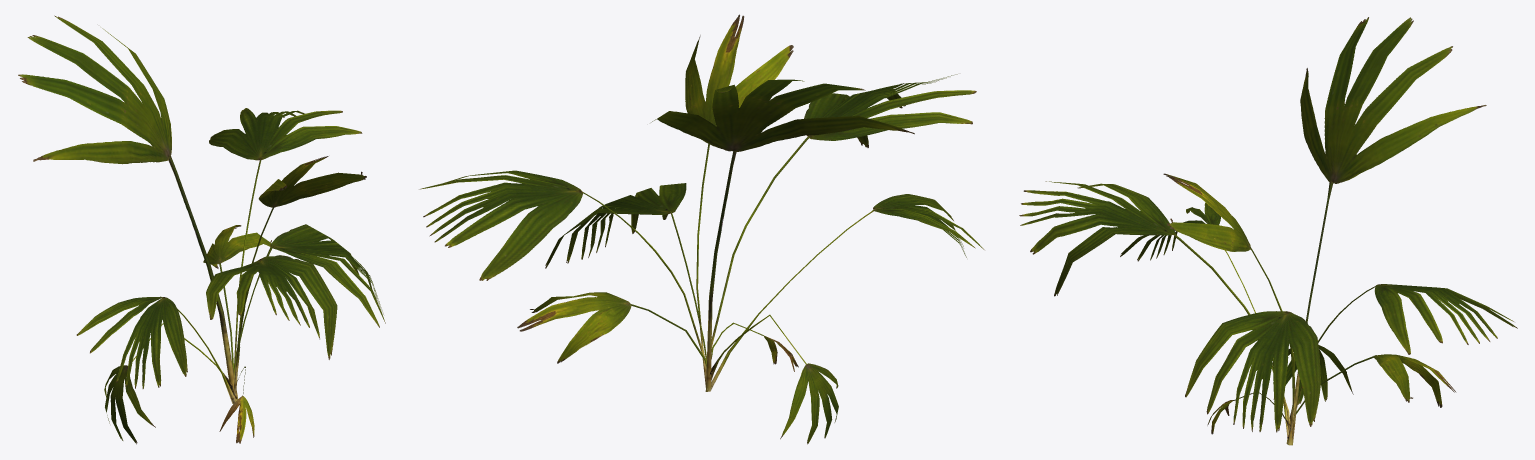
File: fan_palm.glb
The picture shows the model from 3 angles, left to right: view 1: azimuth 30°, elevation 25°; view 2: azimuth 150°, elevation 25°; view 3: azimuth 270°, elevation 25°; orthographic projection. The views are drawn at different scales.
Parts seen in each view (by area): view 1: Megascans fan_palm; view 2: Megascans fan_palm; view 3: Megascans fan_palm.
Part boxes in pixels (x1,y1,x2,y2): Megascans fan_palm: (18, 15, 385, 444); Megascans fan_palm: (419, 14, 984, 444); Megascans fan_palm: (1019, 17, 1517, 445).
Bounding box in the file's own units: 1.09 × 1 × 1.24.
1 material, 1 textured.
